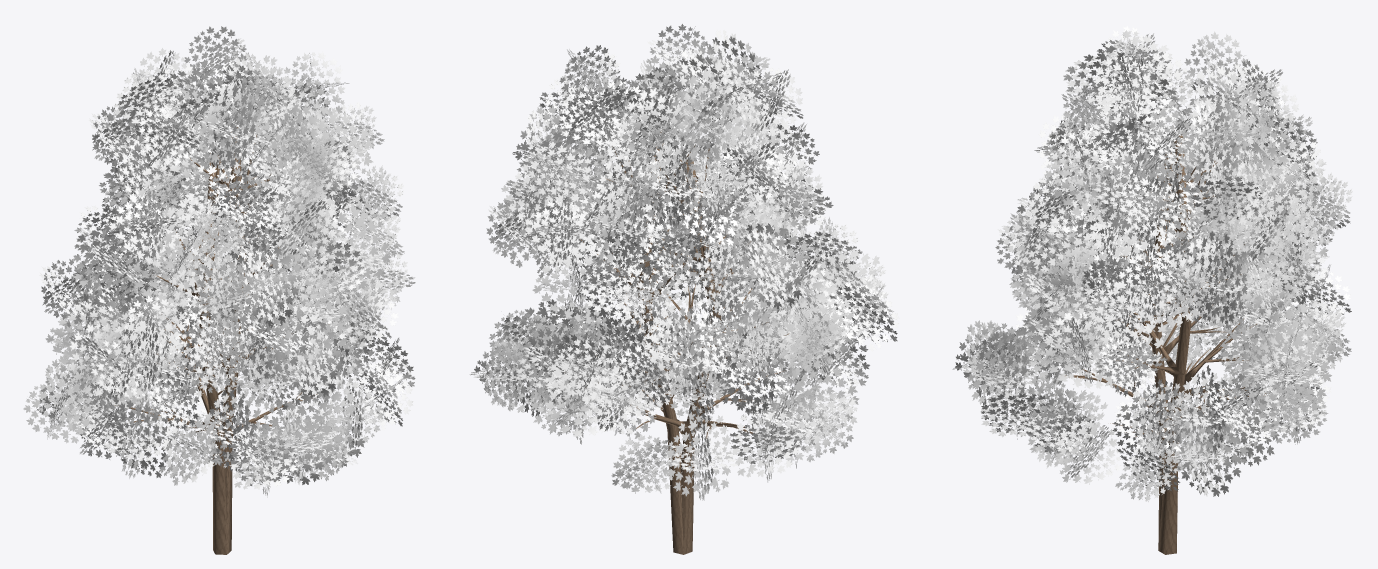
The model's file is SugarMaple_LOD0_P2962_B2100_L864_v04.fbx.
3 views of the same model, side by side, from view 1: azimuth 30°, elevation 25°; view 2: azimuth 150°, elevation 25°; view 3: azimuth 270°, elevation 25° (orthographic). The views are drawn at different scales.
Parts seen in each view (by area): view 1: sugarmapleleafcard_1, sugar_maple_bark_v01_0; view 2: sugarmapleleafcard_1, sugar_maple_bark_v01_0; view 3: sugarmapleleafcard_1, sugar_maple_bark_v01_0.
Part boxes in pixels (<box>): sugarmapleleafcard_1: <box>23,26,415,497</box>; sugar_maple_bark_v01_0: <box>115,126,329,554</box>; sugarmapleleafcard_1: <box>469,24,899,500</box>; sugar_maple_bark_v01_0: <box>564,132,789,554</box>; sugarmapleleafcard_1: <box>952,26,1352,502</box>; sugar_maple_bark_v01_0: <box>1065,122,1269,554</box>.
Size of the model in its own units: 1219 by 1543 by 1153.
